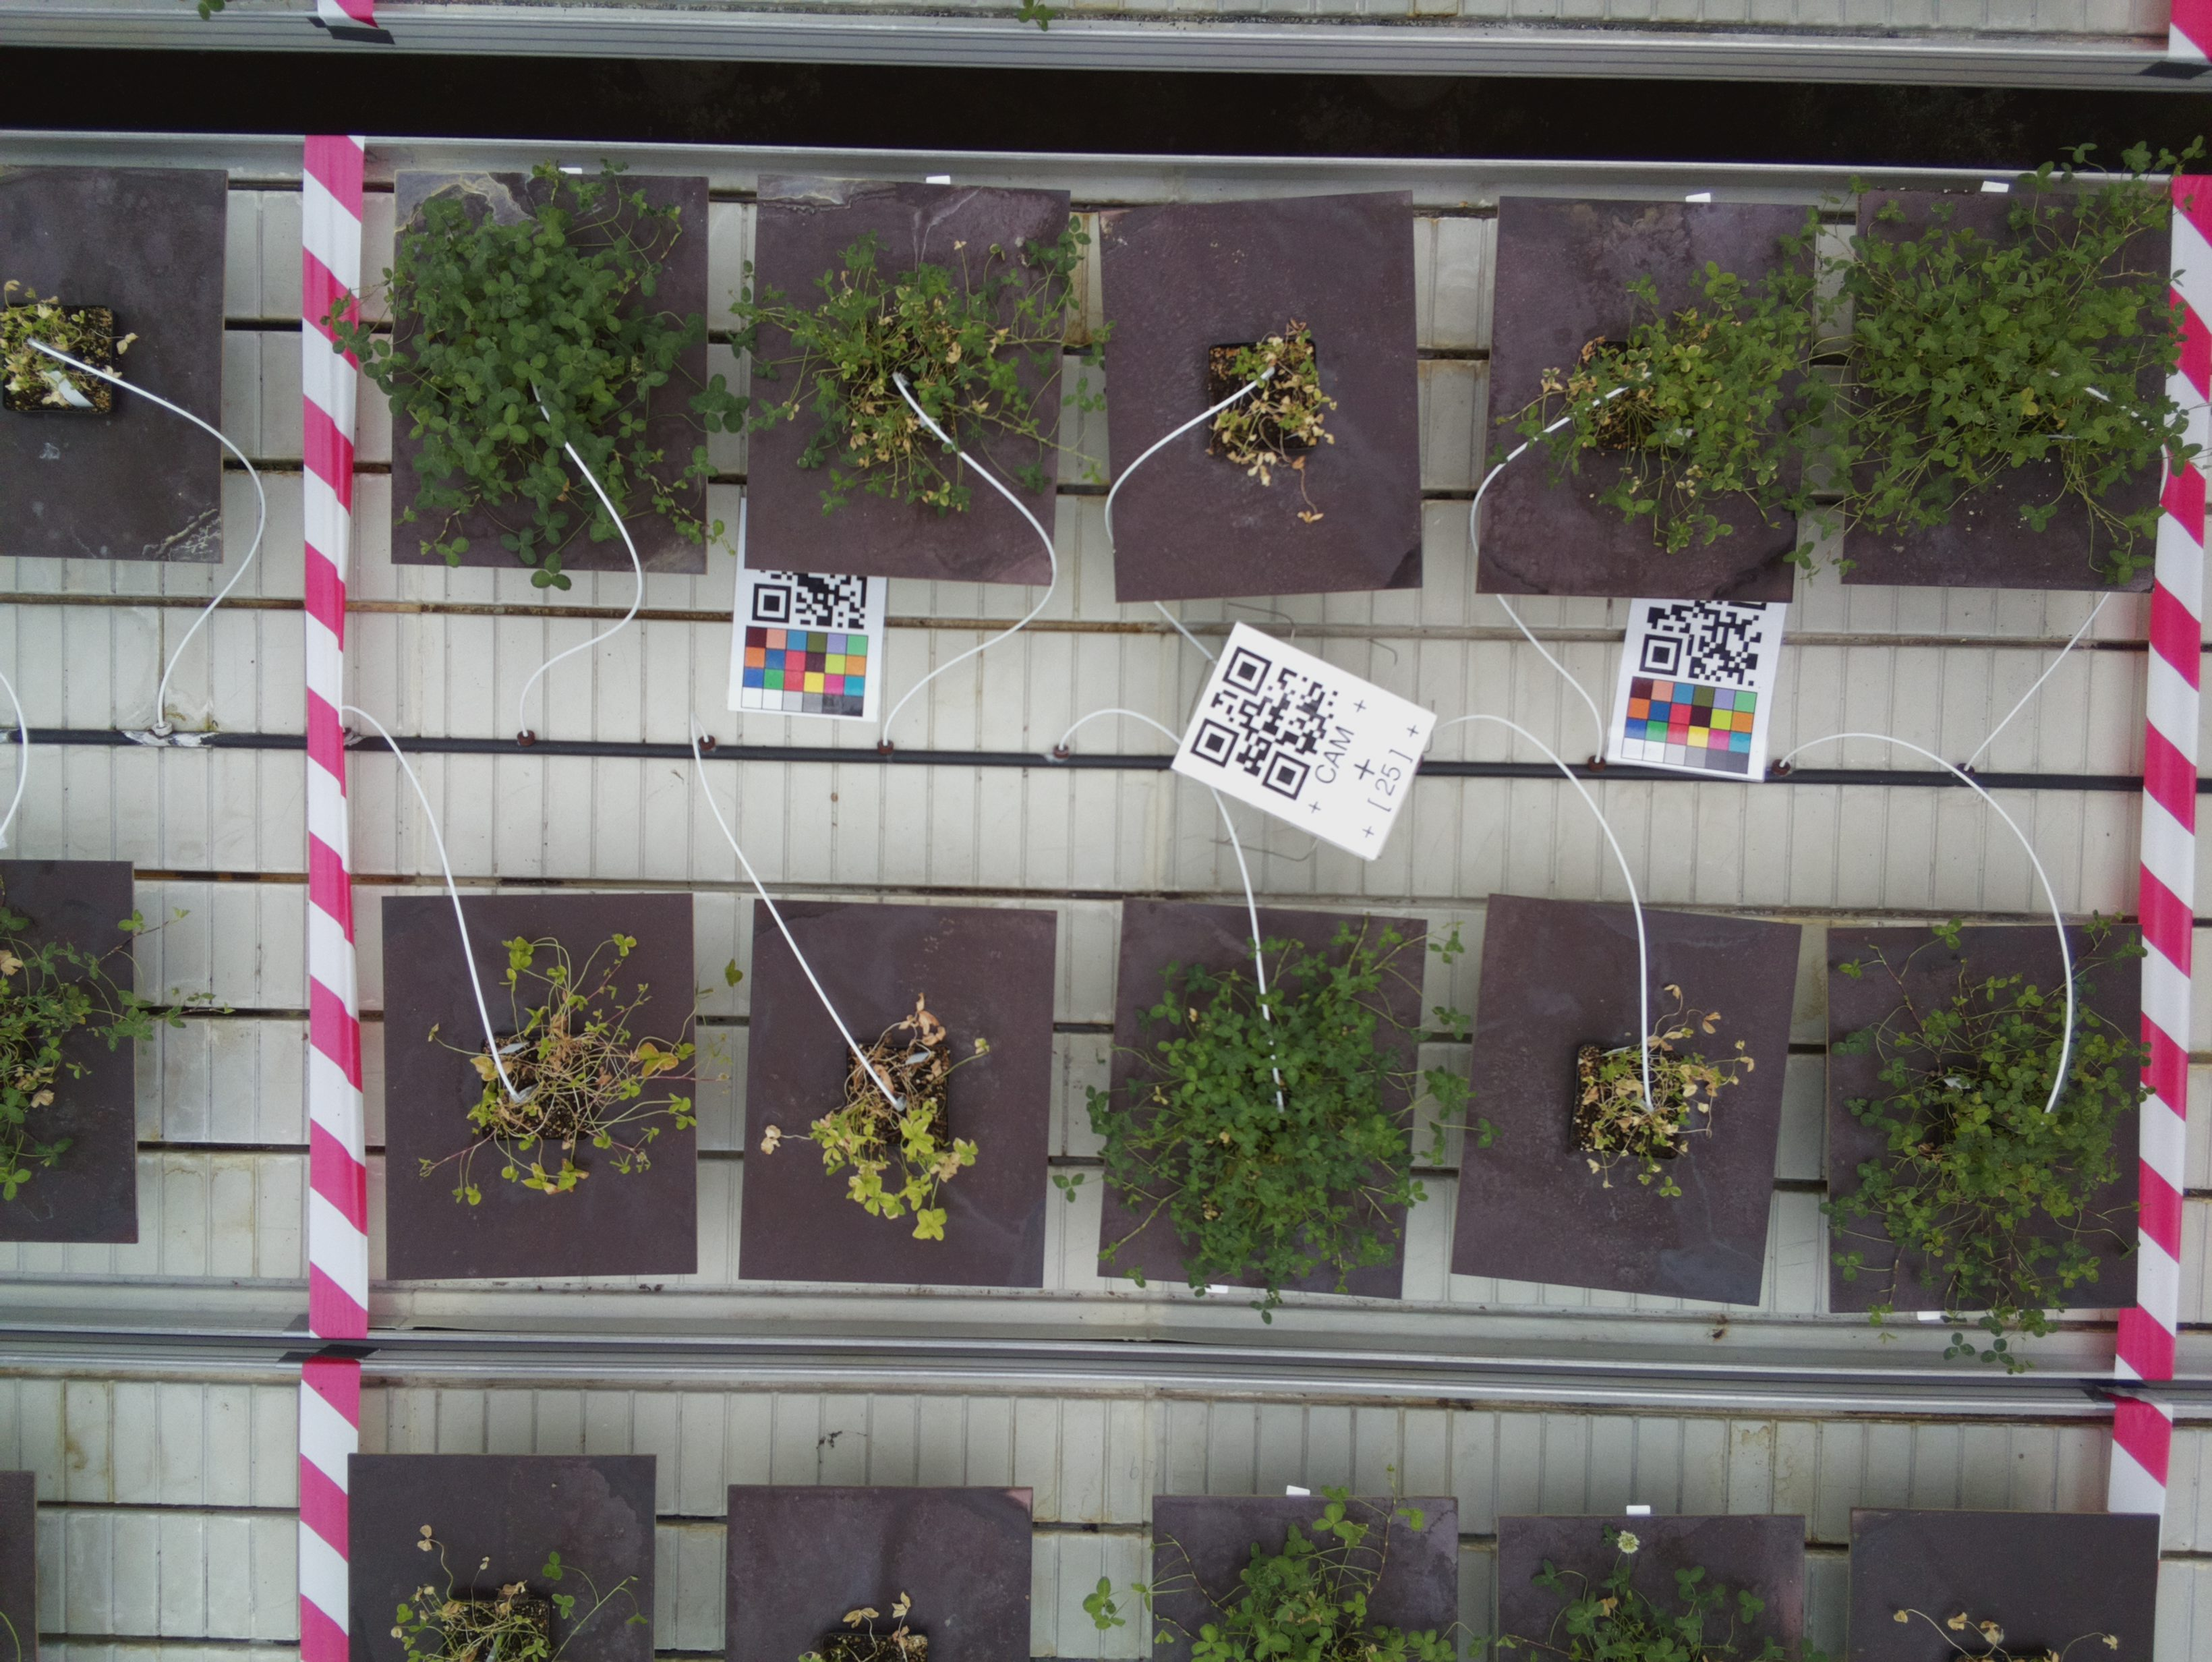POT: (1446, 913, 1800, 1297), (389, 166, 712, 581), (1491, 196, 1810, 611), (1856, 183, 2172, 602), (1107, 896, 1426, 1308), (1093, 204, 1430, 594), (751, 173, 1061, 590), (382, 890, 705, 1285), (1821, 924, 2147, 1311), (742, 894, 1051, 1297)
QRCODE: (1161, 623, 1444, 857)
QRCOLOR: (1610, 599, 1784, 791), (732, 573, 887, 718)
